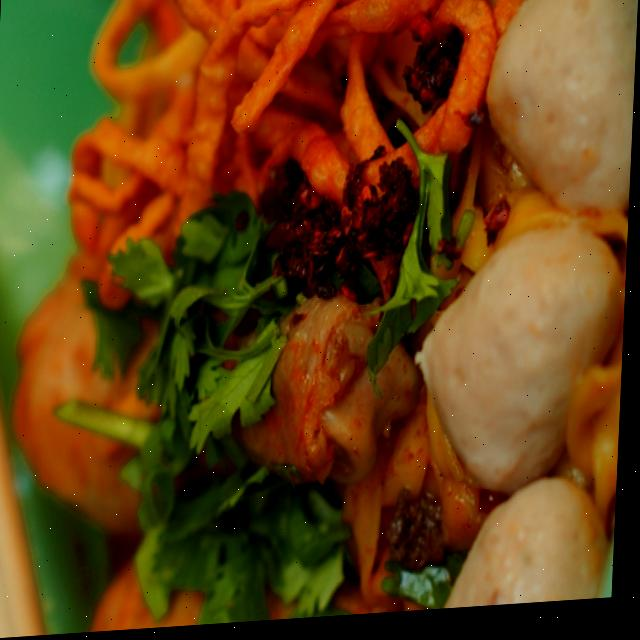面条主食: (0, 0, 640, 608)
